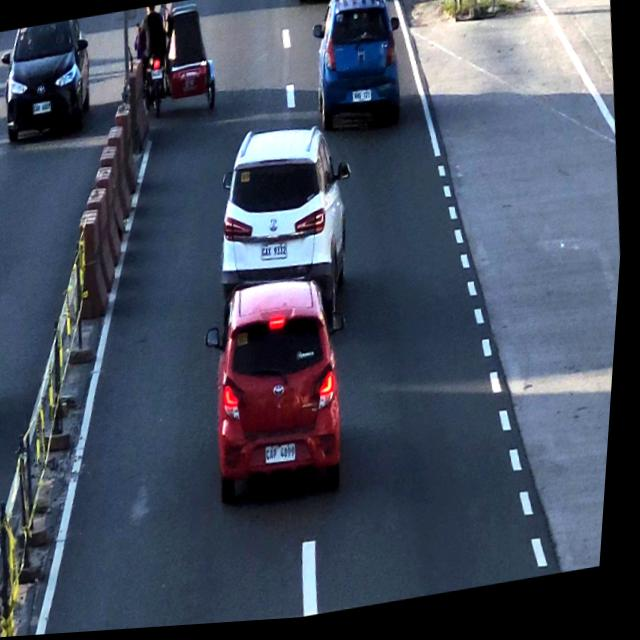Car: (201, 272, 363, 515), (212, 118, 359, 302), (305, 0, 409, 141)
License-Plate: (260, 241, 296, 271), (270, 444, 305, 470), (351, 89, 375, 110)
Tricycle: (122, 0, 224, 124)
